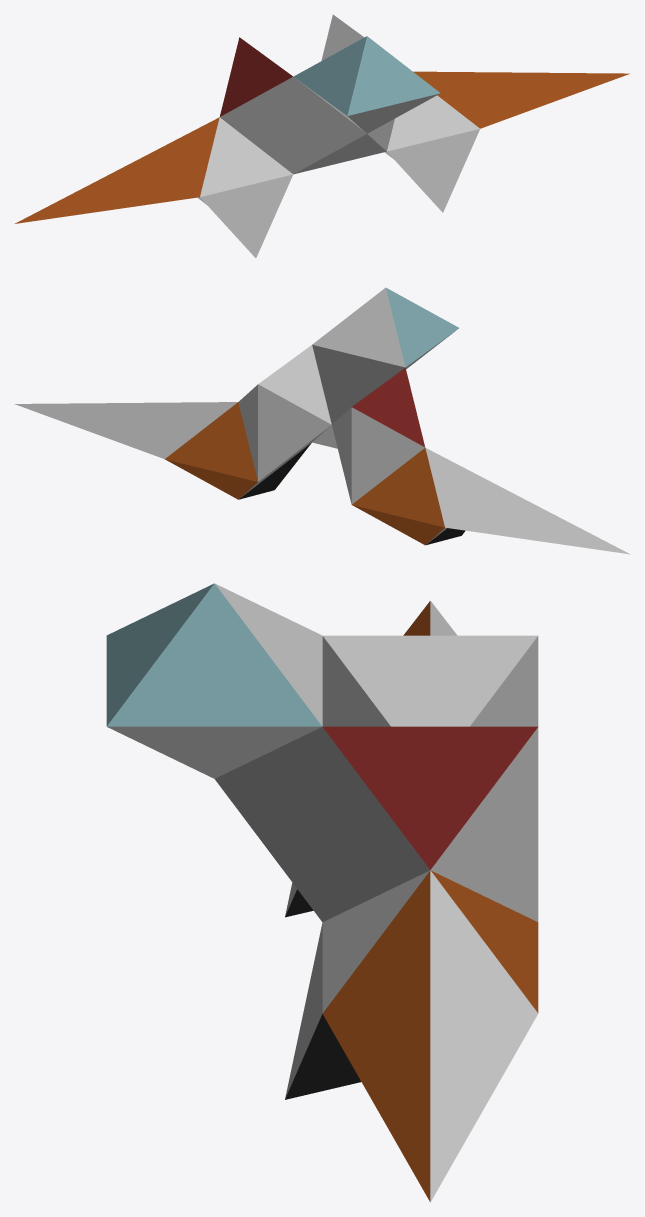
Rendered from Avenger.obj.
The picture shows the model from 3 angles, top to bottom: view 1: azimuth 30°, elevation 25°; view 2: azimuth 150°, elevation 25°; view 3: azimuth 270°, elevation 25°; orthographic projection. The views are drawn at different scales.
Parts seen in each view (by area): view 1: Avenger; view 2: Avenger; view 3: Avenger.
Part boxes in pixels (left/top/right/bottom): Avenger: left=15, top=14, right=629, bottom=257; Avenger: left=14, top=287, right=630, bottom=554; Avenger: left=106, top=583, right=538, bottom=1202.
Bounding box in the file's own units: 3.3 × 1.09 × 1.
